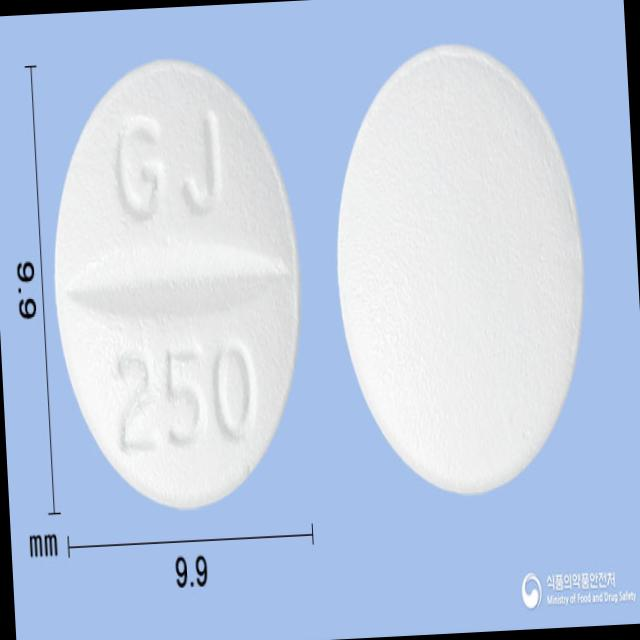Newloxacin Tab: (41, 49, 312, 515)
